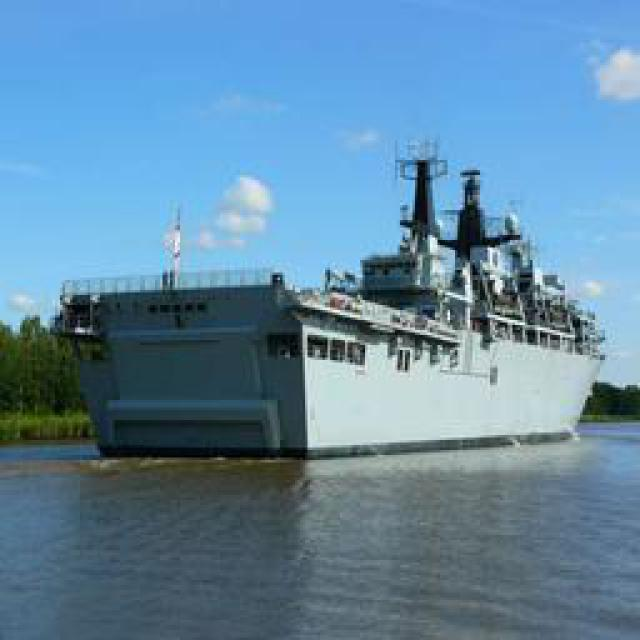Ship: (68, 142, 613, 445)
